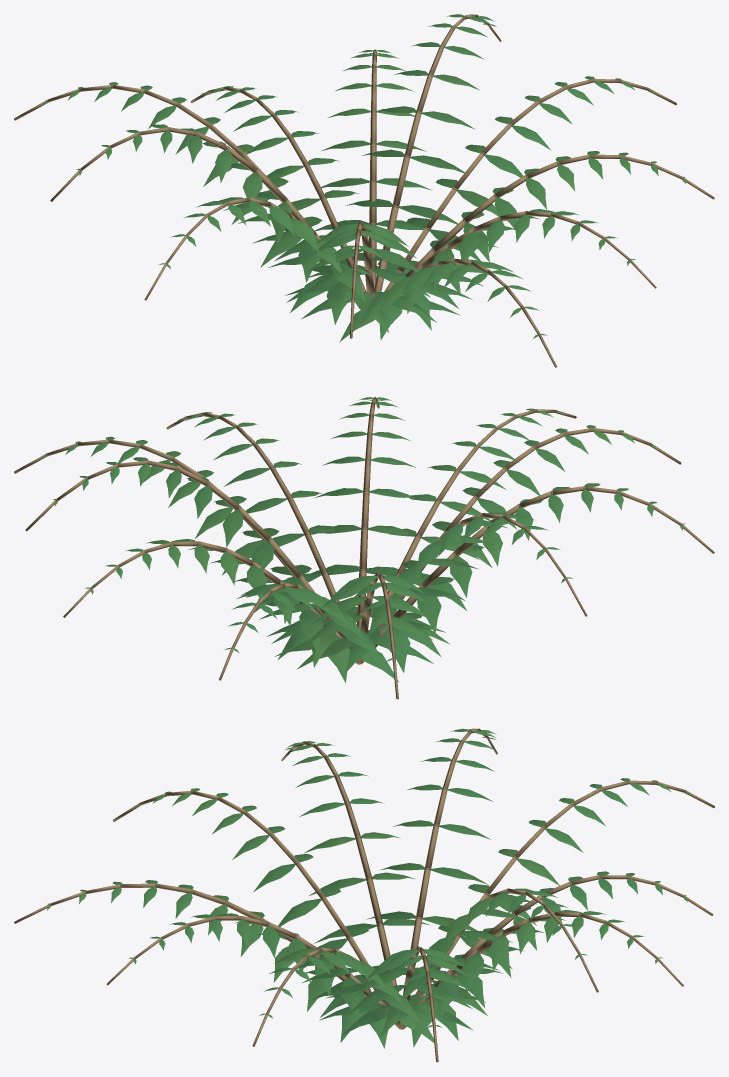
The model's file is fern_giant.glb.
3 renders of one model, top to bottom at view 1: azimuth 30°, elevation 25°; view 2: azimuth 150°, elevation 25°; view 3: azimuth 270°, elevation 25°, orthographic. The views are drawn at different scales.
Visible parts, largest first — view 1: fern_giant; view 2: fern_giant; view 3: fern_giant.
Part boxes in pixels (bbox=[...]): fern_giant: bbox=[14, 14, 714, 367]; fern_giant: bbox=[14, 397, 714, 699]; fern_giant: bbox=[14, 728, 714, 1062].
Bounding box in the file's own units: 4.21 × 1.4 × 4.29.
